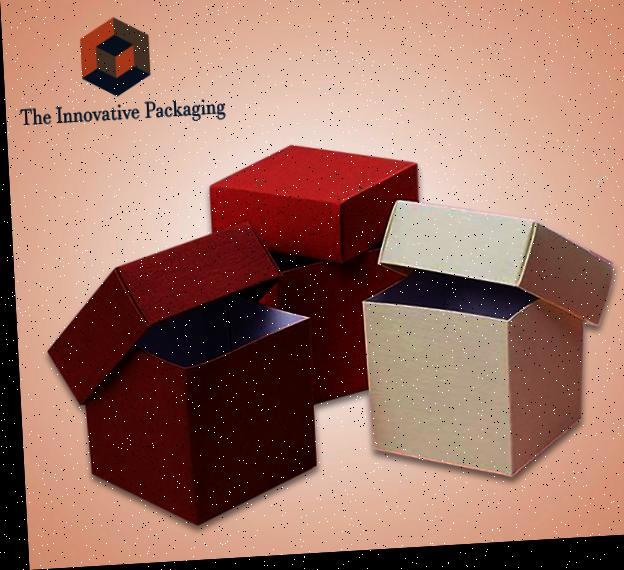cube: (74, 304, 319, 534), (359, 279, 585, 486)
